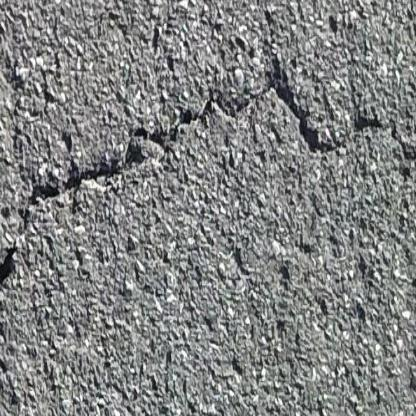Cracks: (0, 8, 416, 344), (61, 130, 78, 164)
